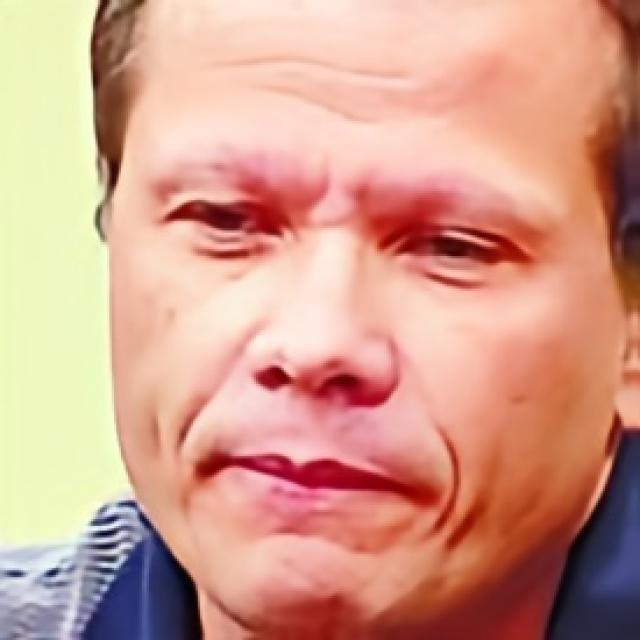sad: (109, 0, 614, 640)
